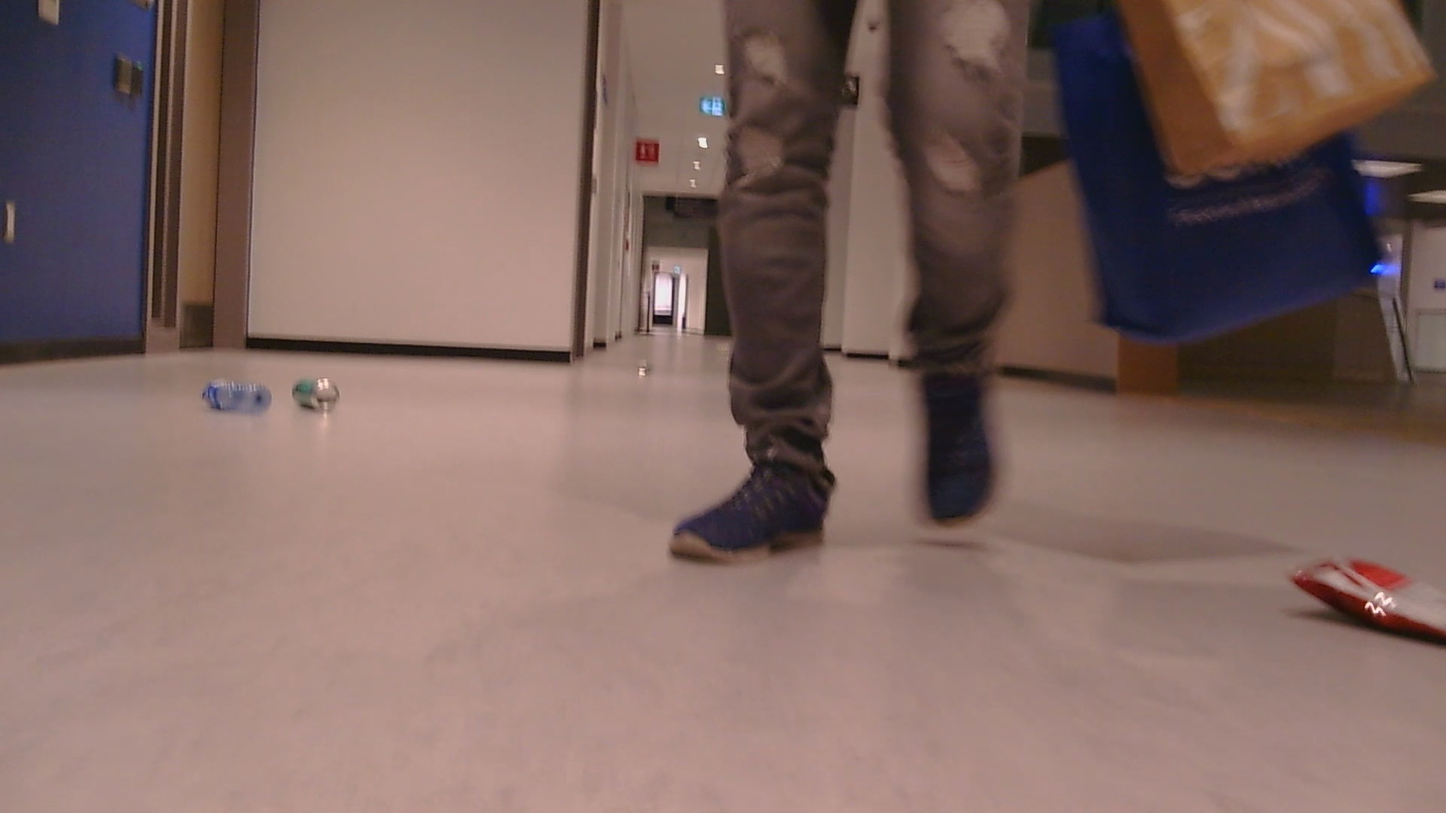carton: (1279, 503, 1446, 679), (185, 355, 294, 427), (280, 358, 354, 423)
